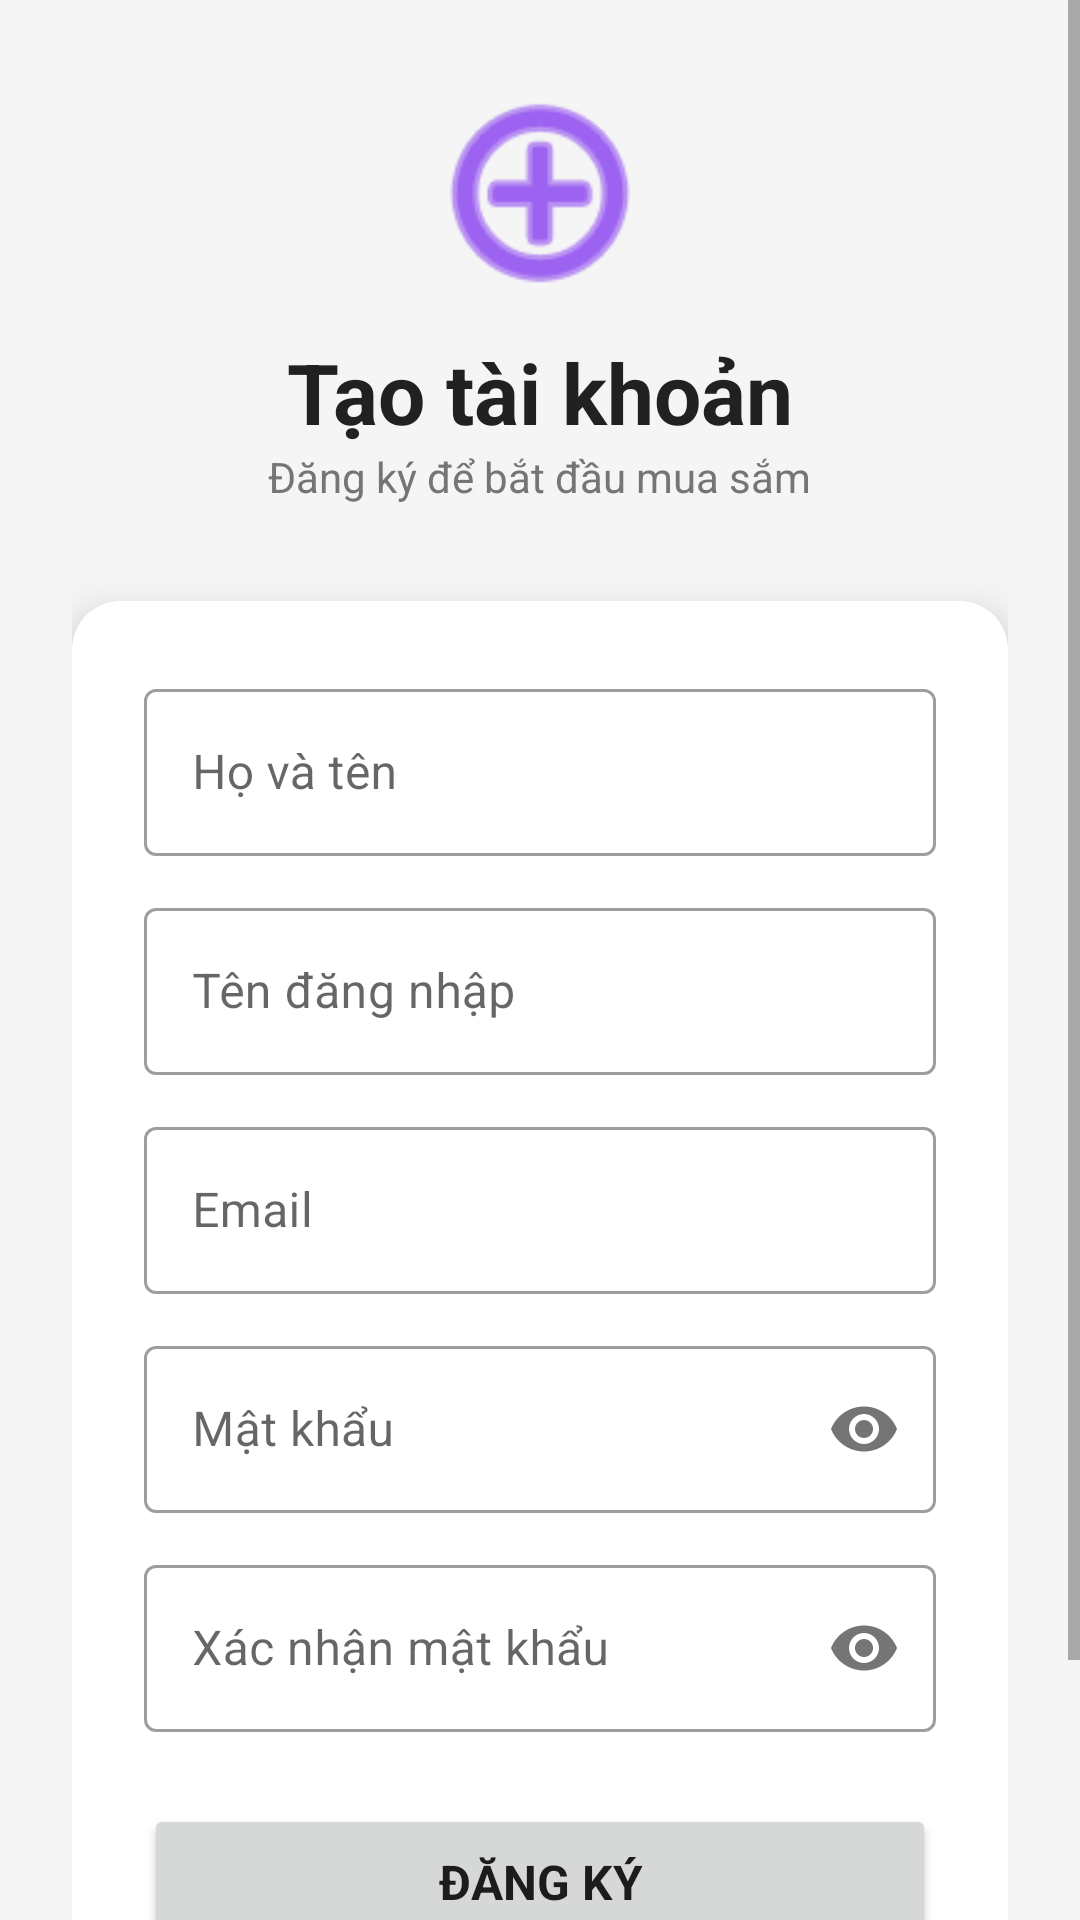

Locate icon controls on the screen. Image size 1080 × 1920, boxes as box=[x1, y1, x2, y2].
add: box=[451, 104, 629, 283]
